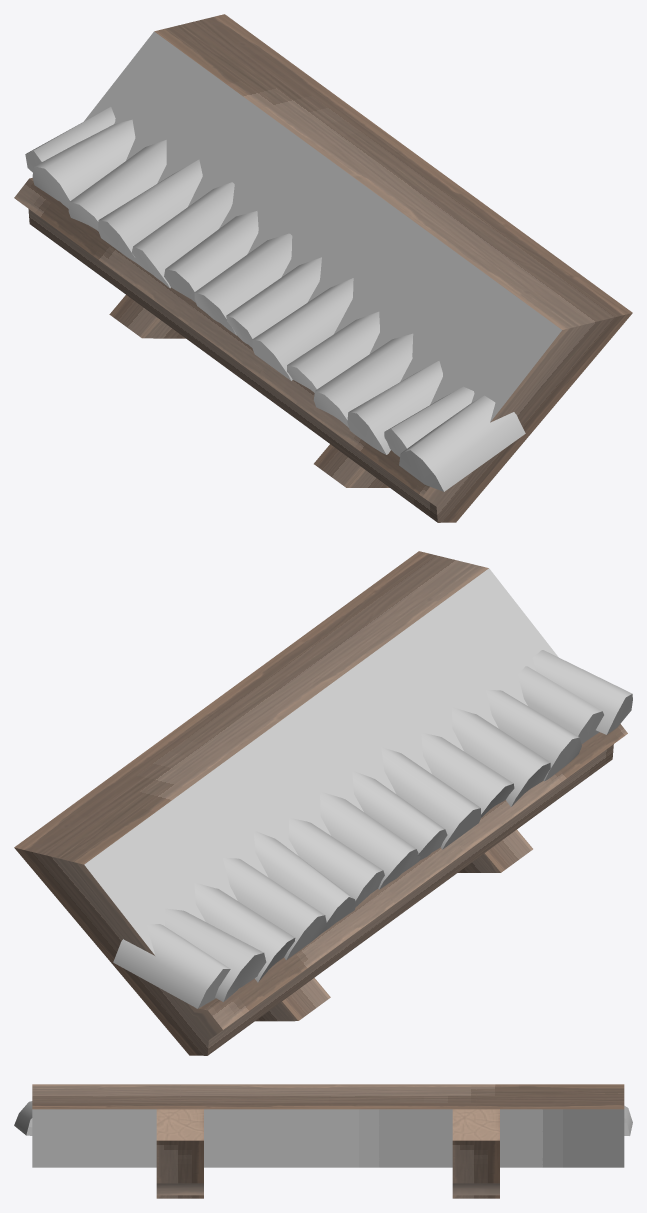
The model's file is SM_HouseRoof_Overhang_01.fbx.
The picture shows the model from 3 angles, top to bottom: view 1: azimuth 30°, elevation 25°; view 2: azimuth 150°, elevation 25°; view 3: azimuth 270°, elevation 25°; orthographic projection. The views are drawn at different scales.
Parts seen in each view (by area): view 1: SM_HouseRoof_Overhang_01_LOD0; view 2: SM_HouseRoof_Overhang_01_LOD0; view 3: SM_HouseRoof_Overhang_01_LOD0.
Boxes of the visible parts, bbox=[...] form: SM_HouseRoof_Overhang_01_LOD0: bbox=[14, 14, 632, 522]; SM_HouseRoof_Overhang_01_LOD0: bbox=[14, 551, 632, 1055]; SM_HouseRoof_Overhang_01_LOD0: bbox=[14, 1084, 632, 1198].
Size of what is drawn, in the model's own units: 1.73 by 1.35 by 5.23.
